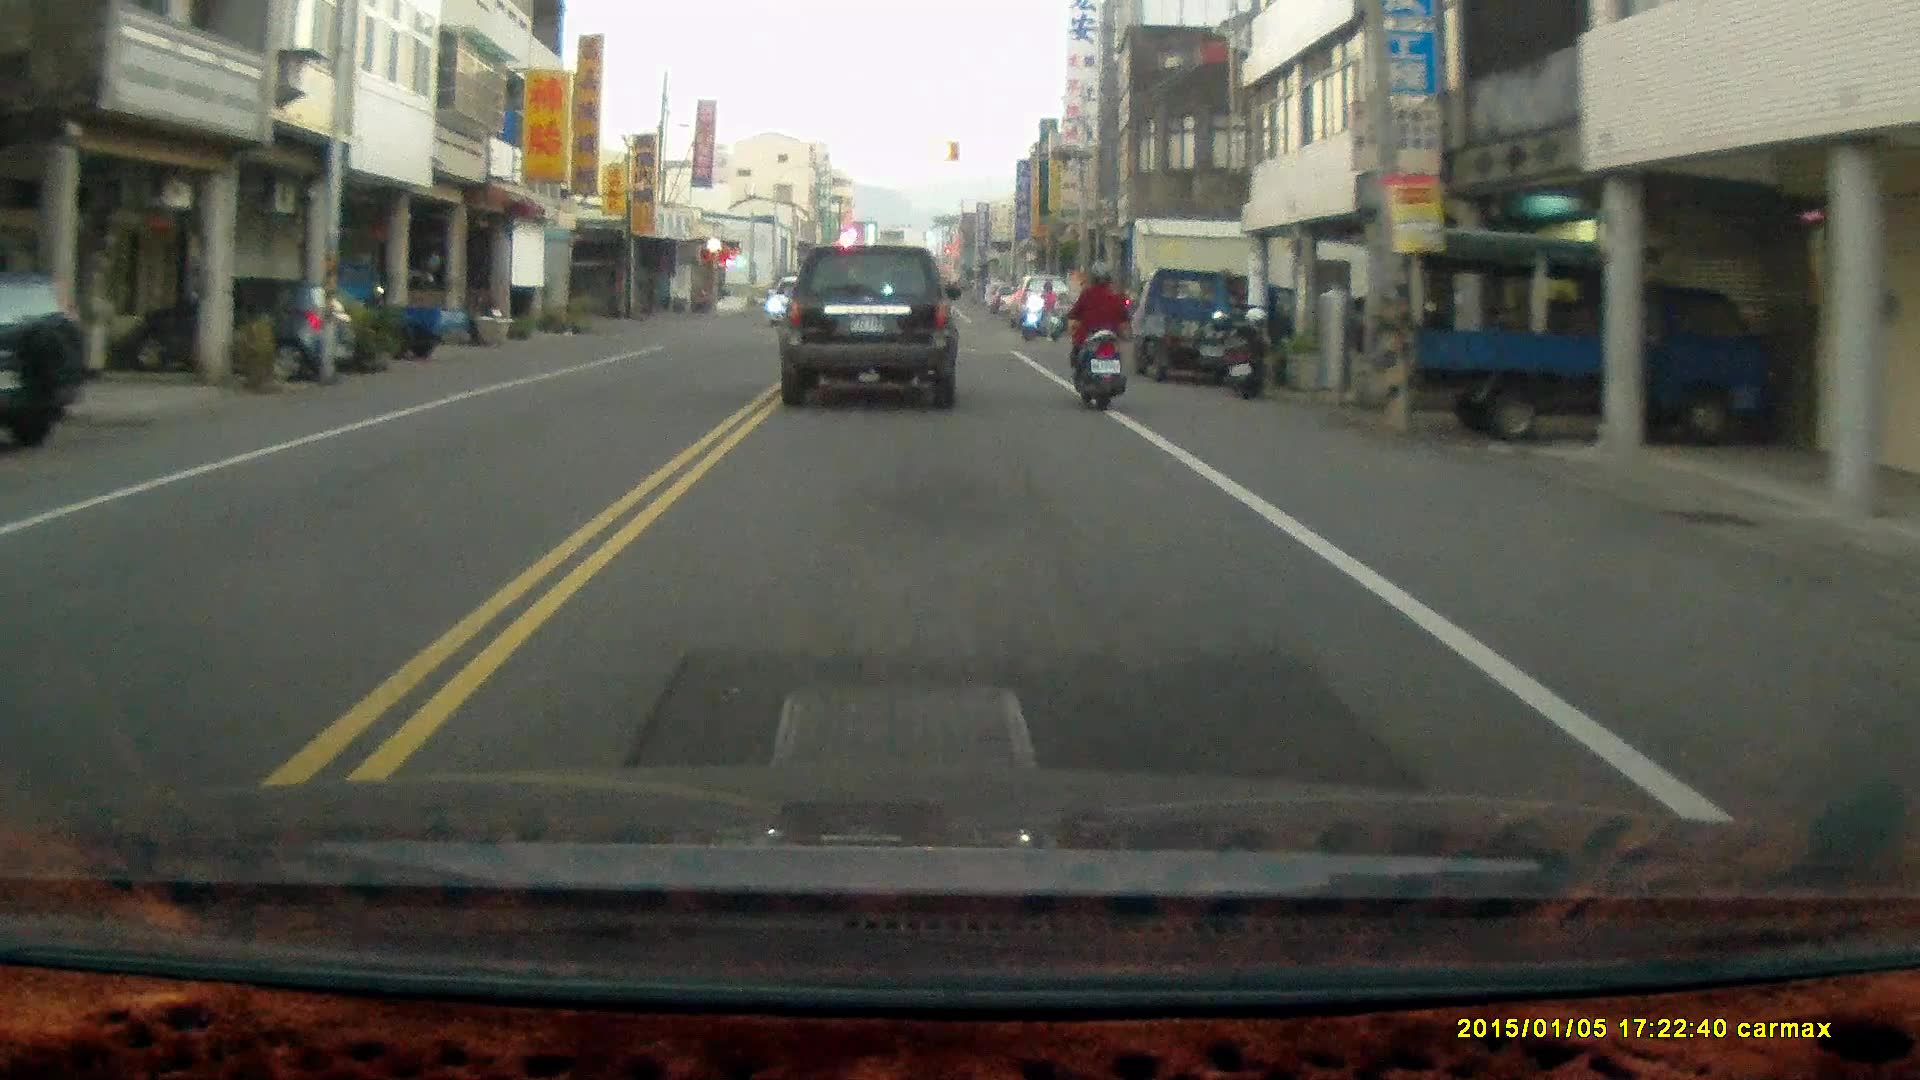rider: (1071, 262, 1128, 412), (1017, 283, 1060, 344)
vehicle: (1395, 235, 1770, 445), (780, 249, 961, 416), (118, 277, 355, 383), (1127, 268, 1275, 389), (0, 275, 93, 459)
